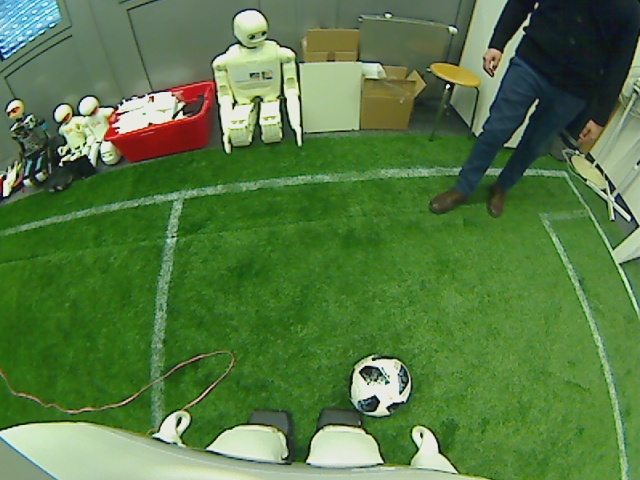ball: (347, 355, 413, 419)
